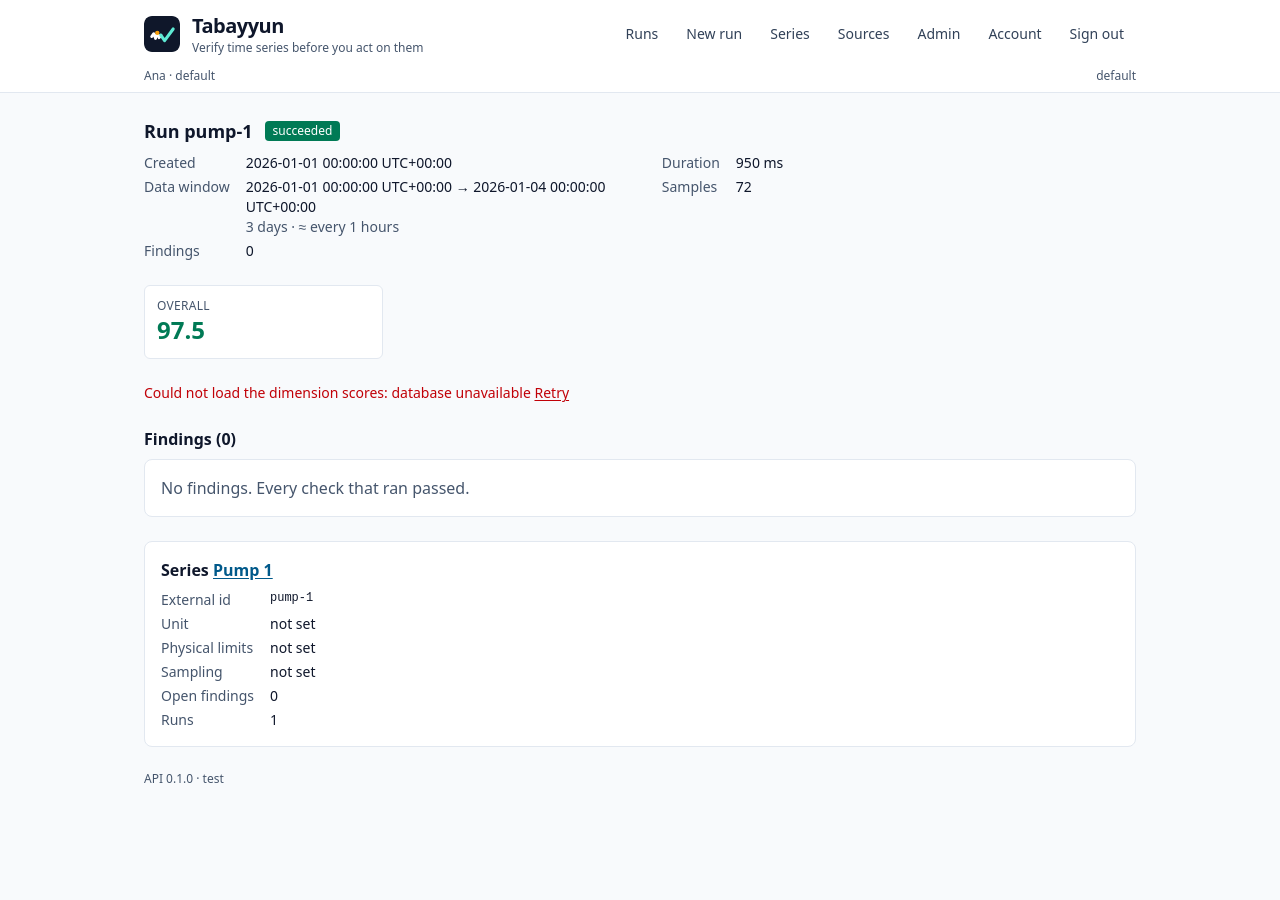
RunReport › keeps the stored overall score when the score row fails and retries on request
This screenshot has width=1280, height=900.
Expected: the text "97.5" is shown, [157, 313, 205, 346]
Click the button "Retry" at (552, 393), box [534, 383, 569, 403]
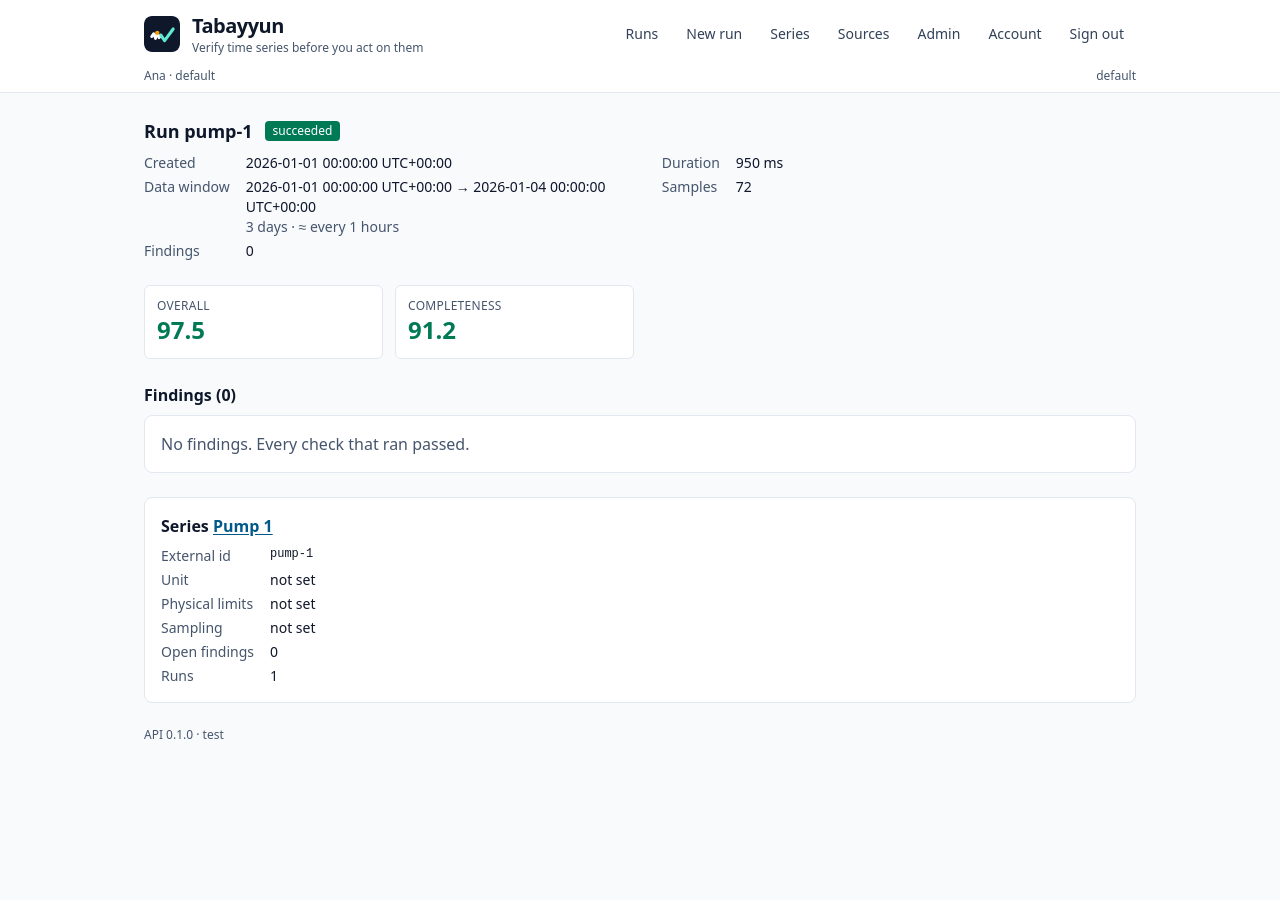
Now the text "91.2" is shown, box [408, 313, 456, 346]
Now the text "Could not load the dimension scores" is gone
